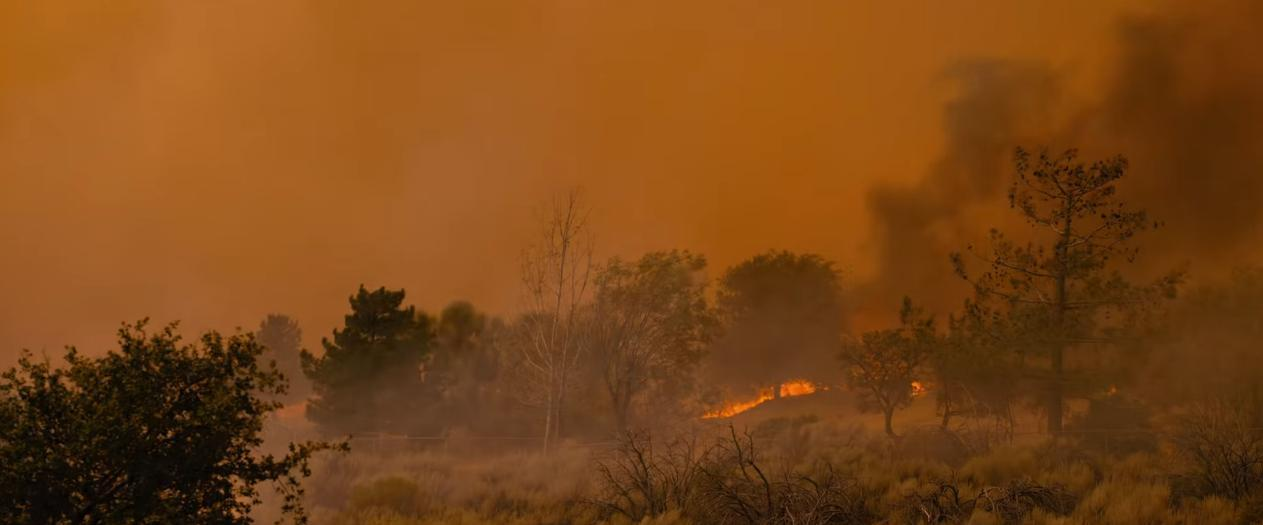fire: (700, 391, 761, 427), (776, 374, 811, 397)
